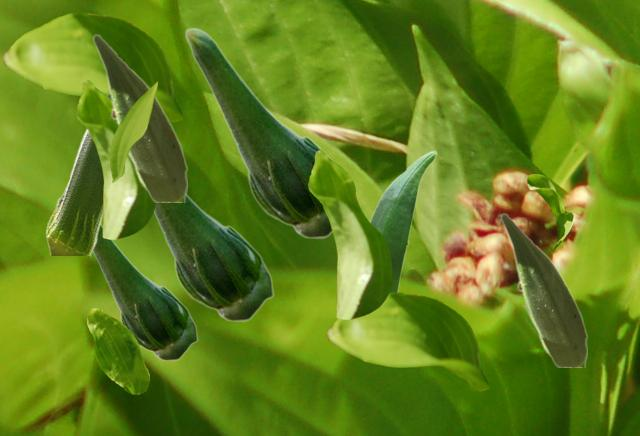okra: (184, 27, 335, 238), (92, 33, 186, 201), (154, 193, 273, 321), (93, 225, 197, 360), (500, 212, 586, 366), (369, 150, 436, 291), (45, 129, 102, 254)
